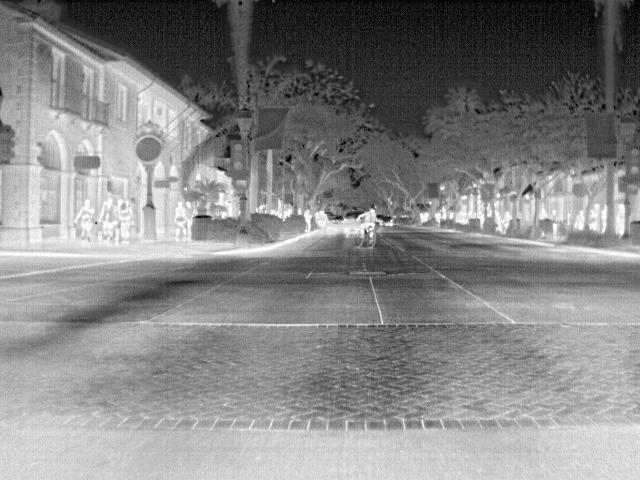person: (96, 199, 118, 241), (75, 200, 97, 239), (356, 208, 378, 241), (117, 198, 132, 244), (174, 200, 188, 242), (549, 207, 561, 238), (599, 204, 611, 234), (303, 207, 315, 234), (501, 210, 513, 230)
